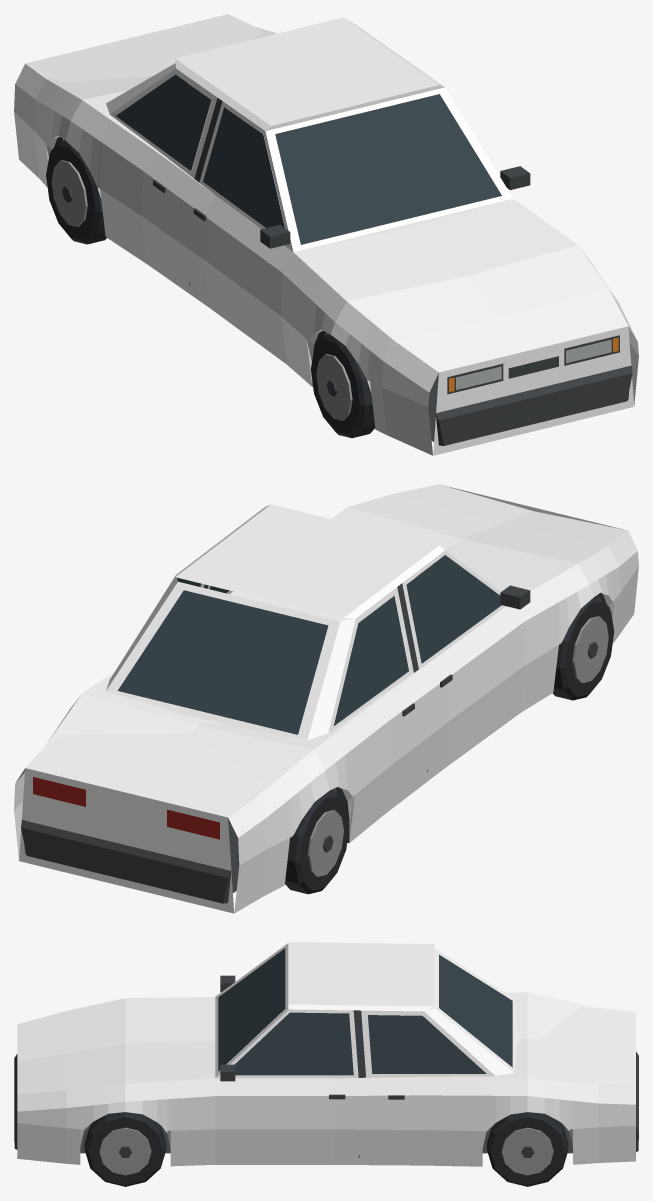
File: whitlock_bluff.glb
3 renders of one model, top to bottom at view 1: azimuth 30°, elevation 25°; view 2: azimuth 150°, elevation 25°; view 3: azimuth 270°, elevation 25°, orthographic. The views are drawn at different scales.
Visible parts, largest first — view 1: whitlock_bluff; view 2: whitlock_bluff; view 3: whitlock_bluff.
Boxes of the visible parts, x1,y1,x2,y2 form: whitlock_bluff: (14, 14, 638, 455); whitlock_bluff: (14, 484, 638, 913); whitlock_bluff: (14, 942, 638, 1186).
Bounding box in the file's own units: 1.84 × 1.47 × 4.97.
Materials: 8 (1 with a texture image).
